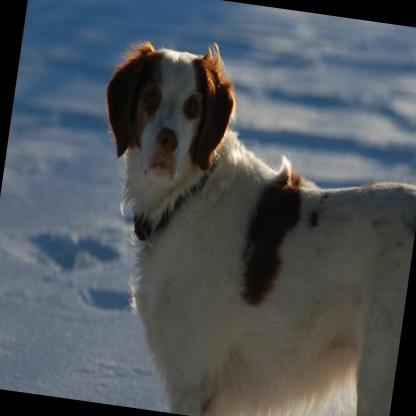English_setter: (61, 27, 416, 416)
